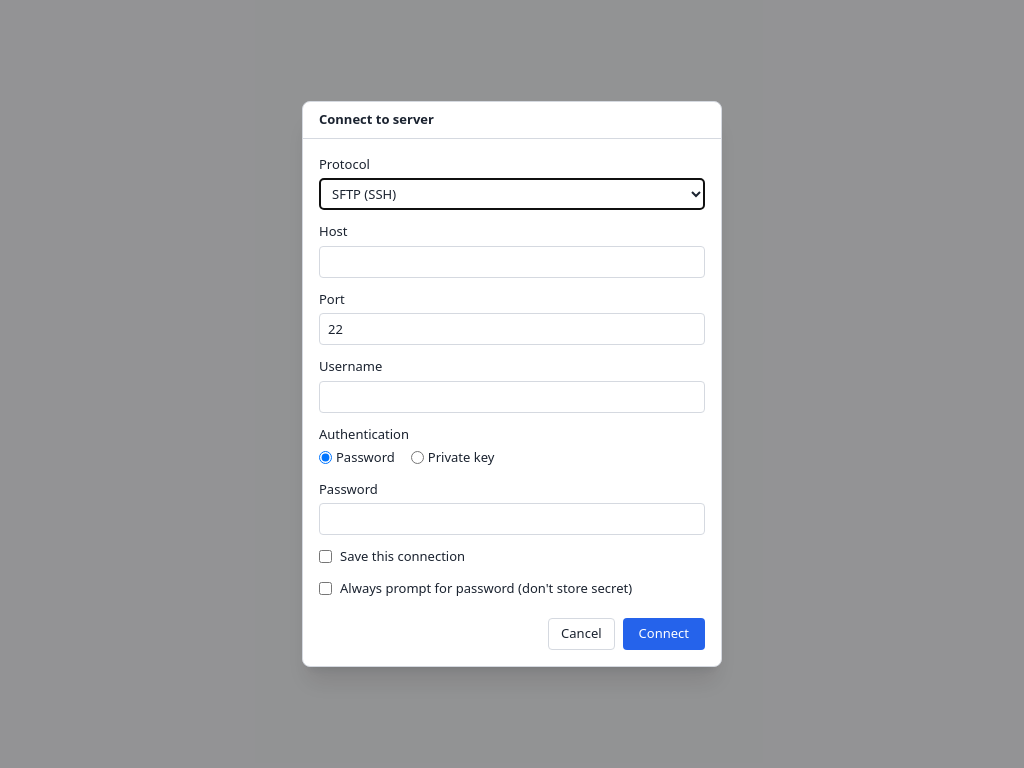
ConnectDialog › encrypted key with the passphrase setting OFF shows a Settings hint and does not connect
The width and height of the screenshot is (1024, 768).
Click the radio button labelled "Private key" at (417, 458), box [411,451,424,464]
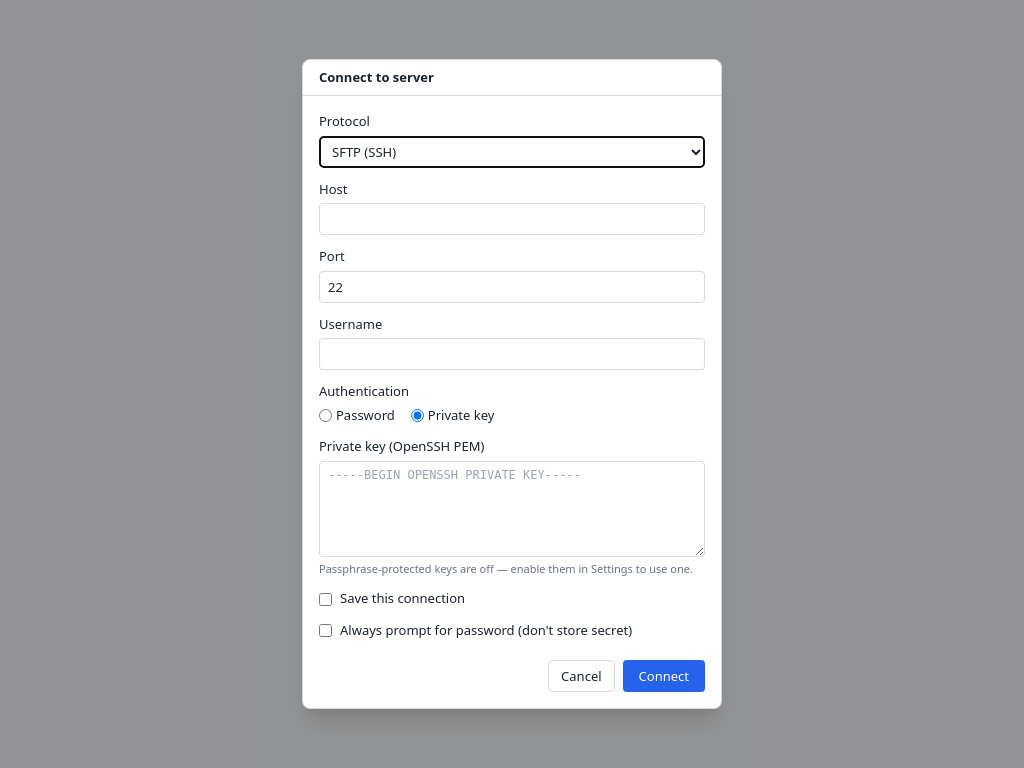
Type "encrypted-key" into the text box with placeholder "-----BEGIN OPENSSH PRIVATE KEY-----" at (512, 509), box [319,461,705,557]
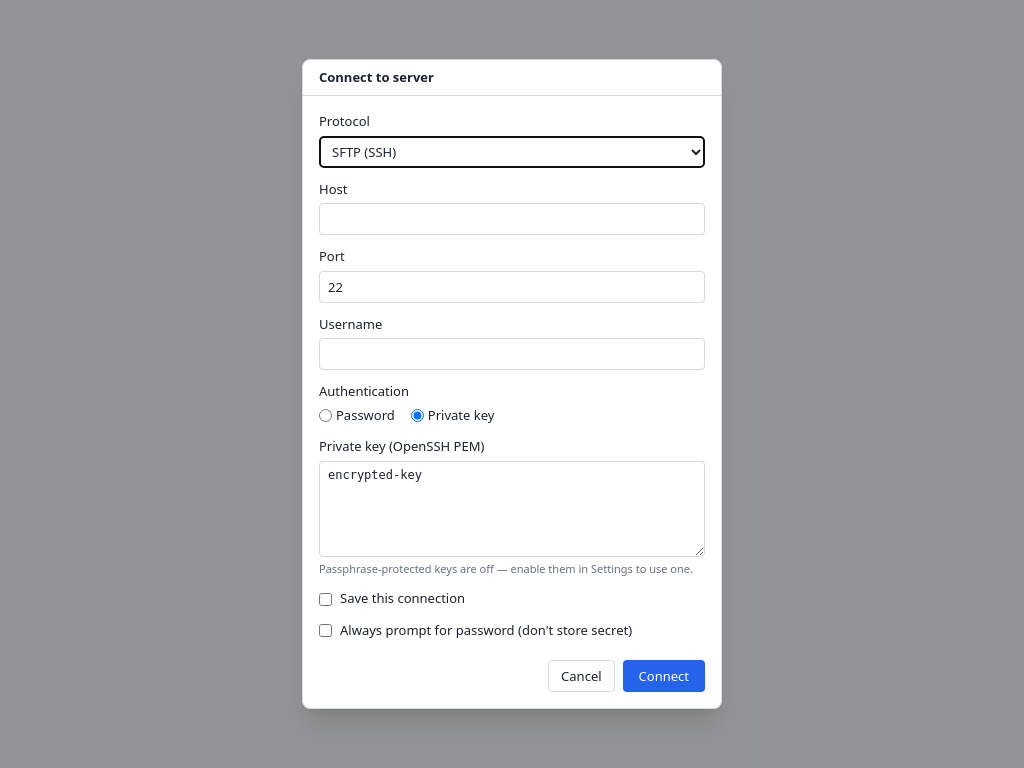
Type "h" into the field labelled "Host" at (512, 219), box [319,203,705,235]
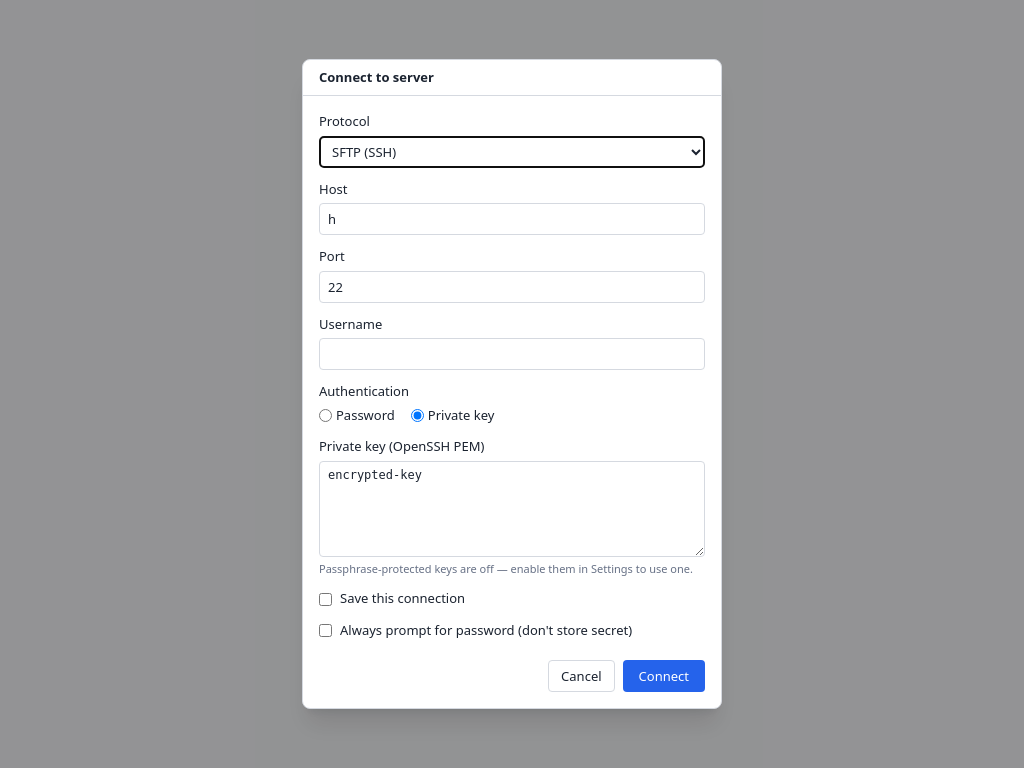
Type "u" into the field labelled "Username" at (512, 354), box [319,338,705,370]
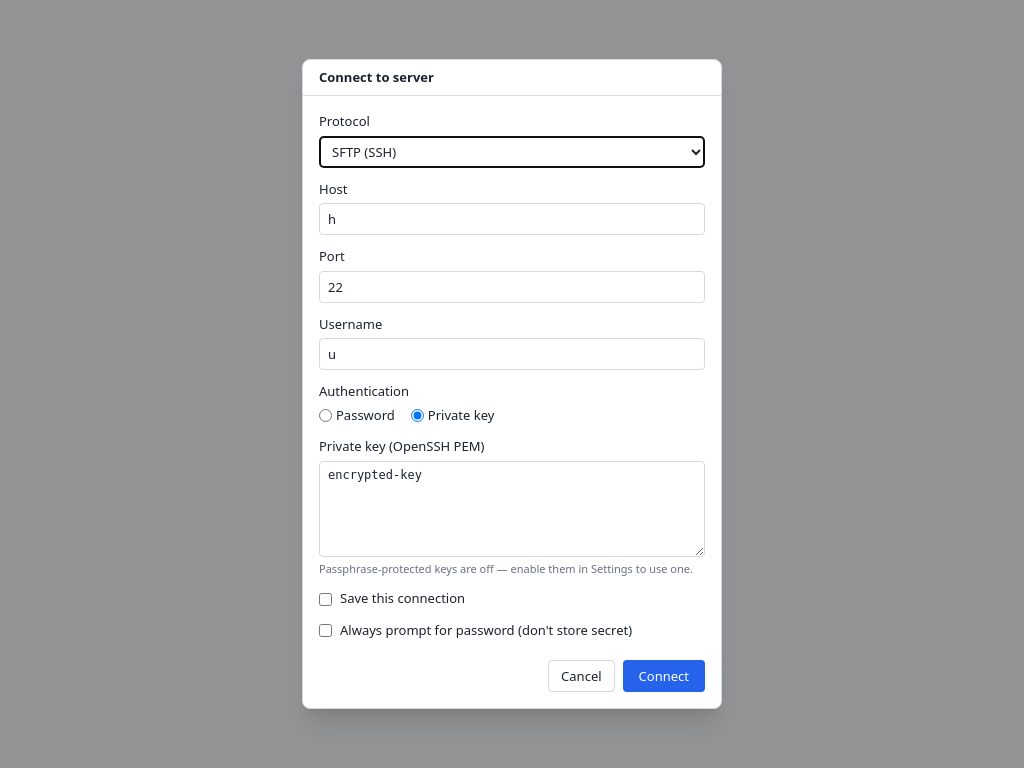
Click the button "Connect" at (664, 676), box [623,660,705,692]
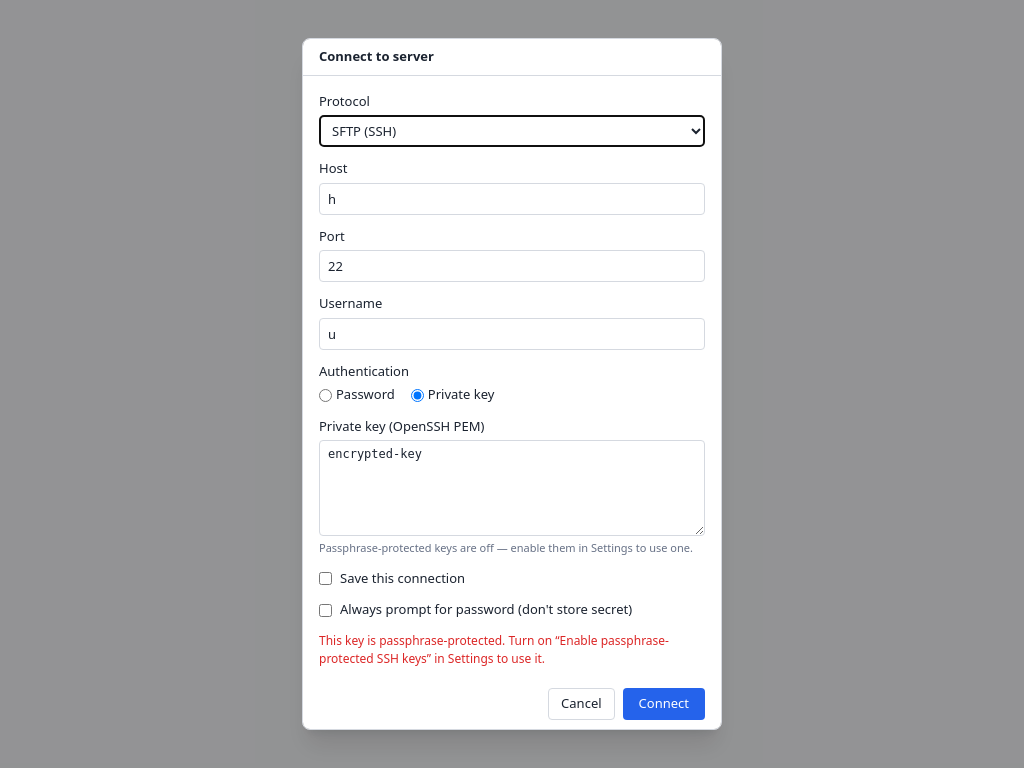
Check: the message shows "settings", box [319,632,669,667]
